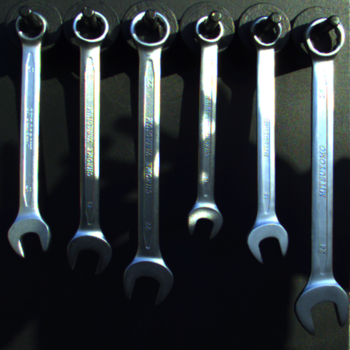bottom: (293, 281, 350, 336), (120, 256, 176, 305), (63, 230, 114, 275), (244, 219, 290, 264), (5, 214, 52, 257), (186, 199, 224, 242)
top: (303, 15, 345, 61), (128, 8, 171, 49), (70, 8, 112, 47), (14, 9, 50, 46), (248, 13, 283, 49), (193, 12, 227, 47)
